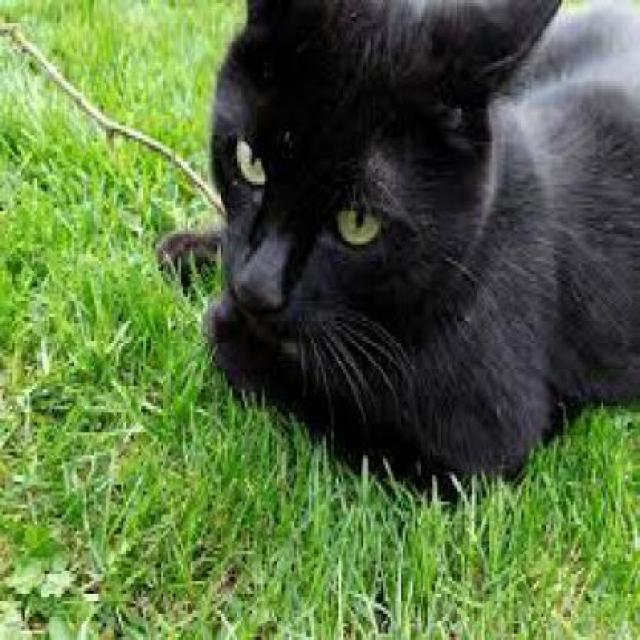animals: (157, 3, 588, 469)
